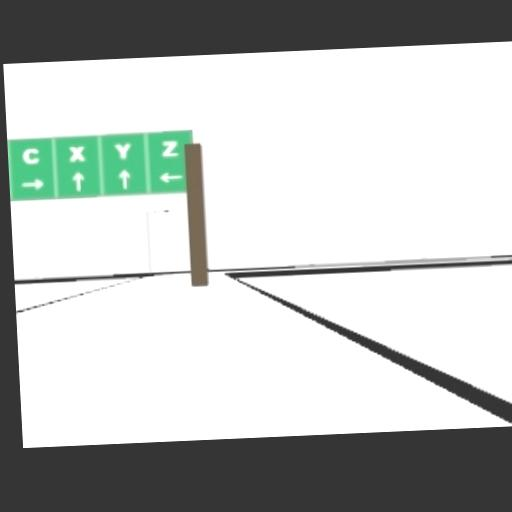C: (22, 148, 39, 164)
Left: (158, 171, 181, 183)
Right: (20, 177, 45, 191)
Straight: (117, 168, 130, 188), (71, 172, 84, 190)
X: (68, 146, 85, 162)
Y: (114, 142, 131, 160)
Z: (160, 139, 178, 156)
